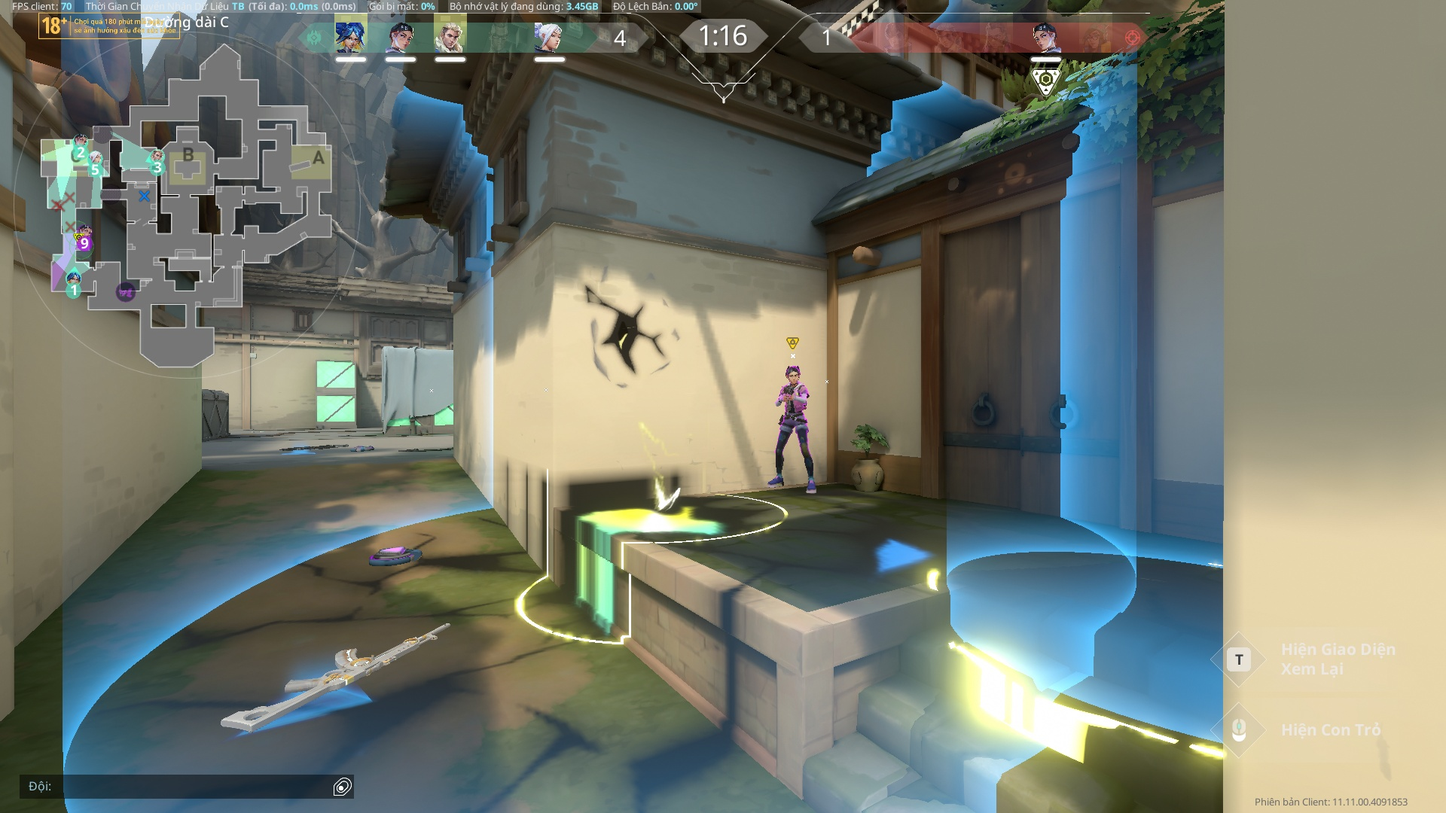body: (778, 383, 808, 413)
head: (785, 367, 801, 383)
